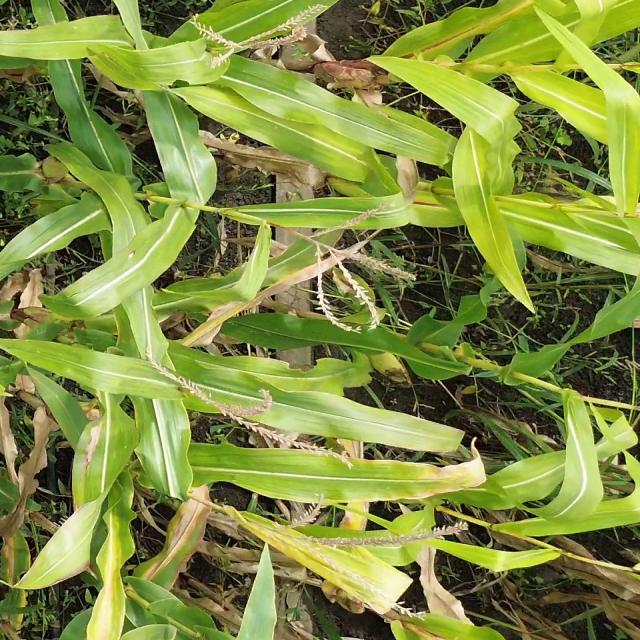northern-leaf-blight: (146, 508, 195, 582), (92, 574, 121, 640), (81, 421, 112, 476)
southern-leaf-blight: (22, 338, 101, 362)
